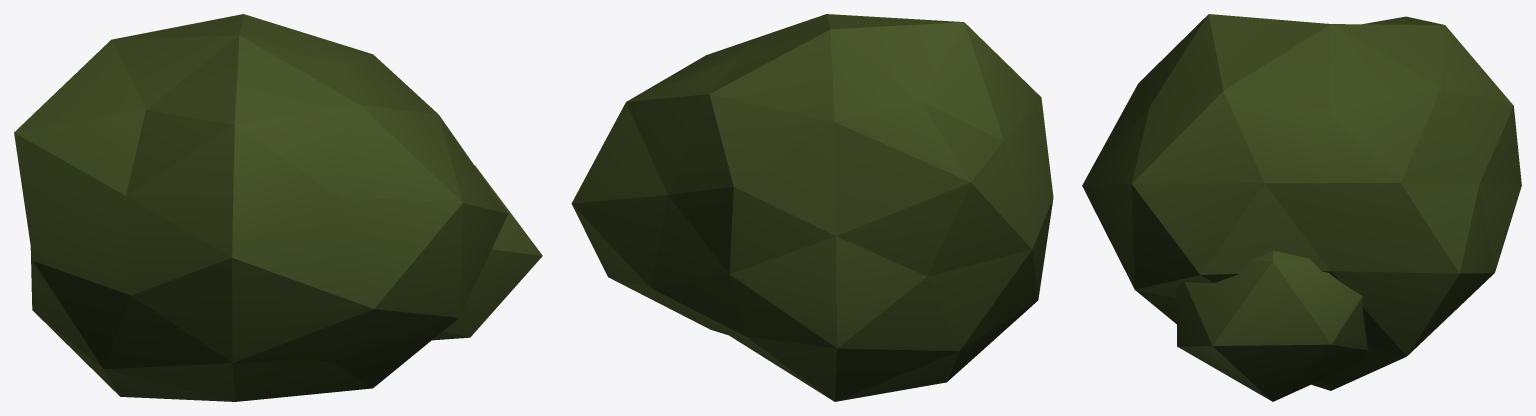
The model's file is copa-fundo.glb.
3 views of the same model, side by side, from view 1: azimuth 30°, elevation 25°; view 2: azimuth 150°, elevation 25°; view 3: azimuth 270°, elevation 25° (orthographic). The views are drawn at different scales.
Visible parts, largest first — view 1: copa-fundo; view 2: copa-fundo; view 3: copa-fundo.
Part boxes in pixels (x1,y1,x2,y2): copa-fundo: (14,14,542,401); copa-fundo: (571,14,1053,401); copa-fundo: (1082,14,1521,401).
Size of the model in its own units: 5.74 by 4.15 by 5.31.
